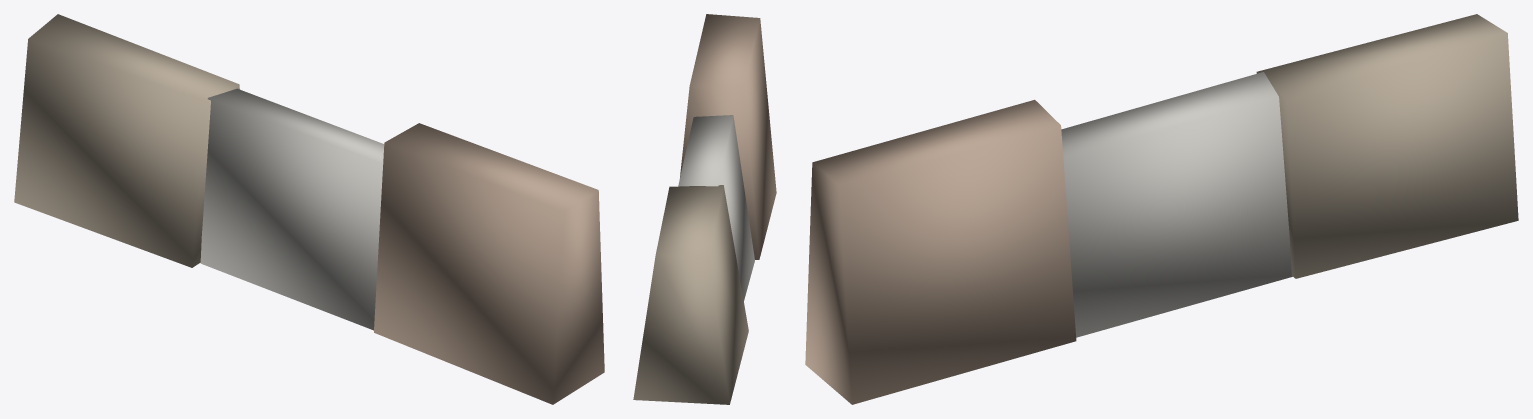
The model's file is farm_2_14_far.glb.
3 views of the same model, side by side, from view 1: azimuth 30°, elevation 25°; view 2: azimuth 150°, elevation 25°; view 3: azimuth 270°, elevation 25° (orthographic). The views are drawn at different scales.
Parts seen in each view (by area): view 1: geometry_0; view 2: geometry_0; view 3: geometry_0.
Boxes of the visible parts, x1,y1,x2,y2 form: geometry_0: (14, 14, 604, 404); geometry_0: (633, 14, 776, 404); geometry_0: (805, 14, 1518, 404).
Size of the model in its own units: 2.64 by 1.65 by 4.59.
